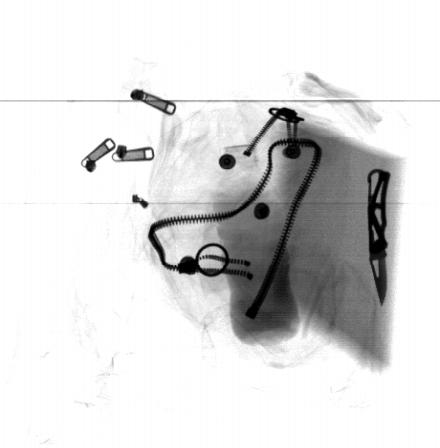Knife: (366, 167, 392, 310)
